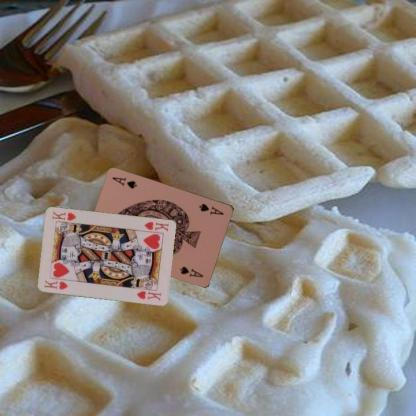As: (196, 201, 226, 216)
Kh: (42, 277, 70, 292), (141, 219, 170, 233)
